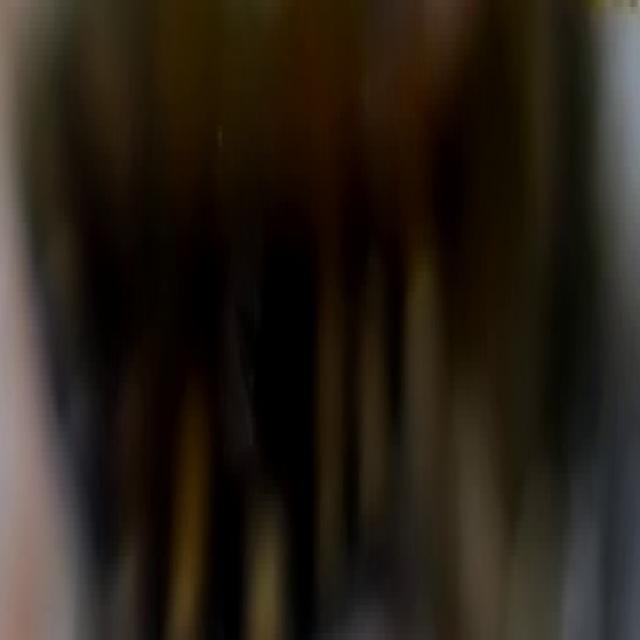fish: (0, 0, 639, 633)
